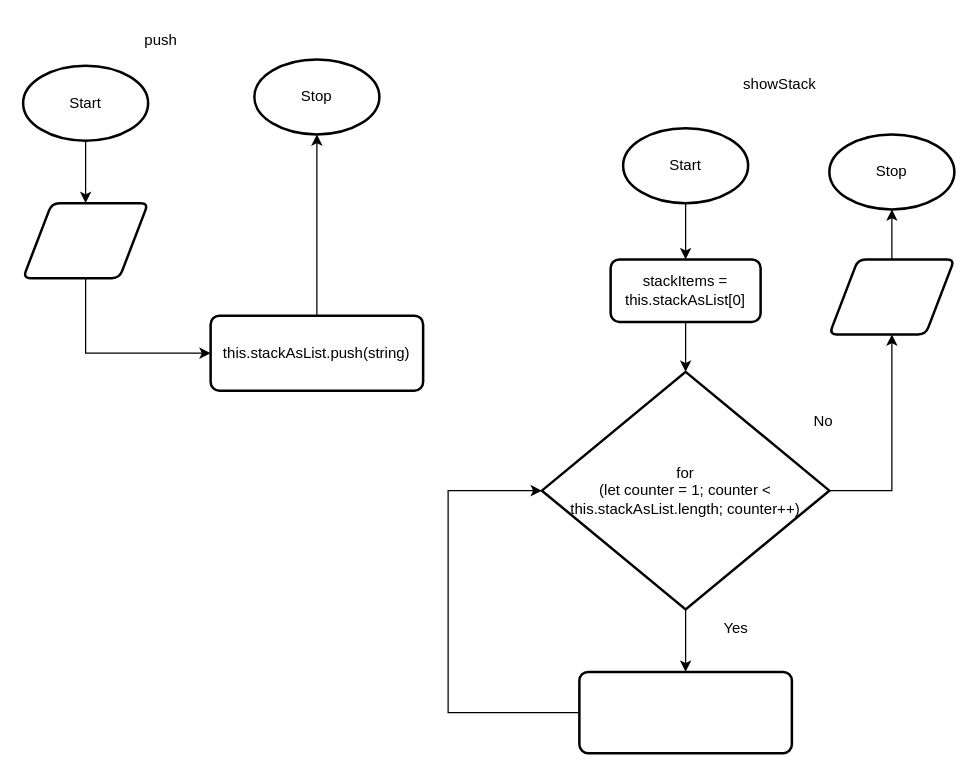
This 976x775 diagram has some shape labels left out. Here are the shapes that lost their labels. From the top down, the centre of each, then its label:
point (85, 240): Set stringPushed
point (891, 296): return stackItems
point (685, 712): stackItems = stackItems + ", " + this.stackAsList[counter]
